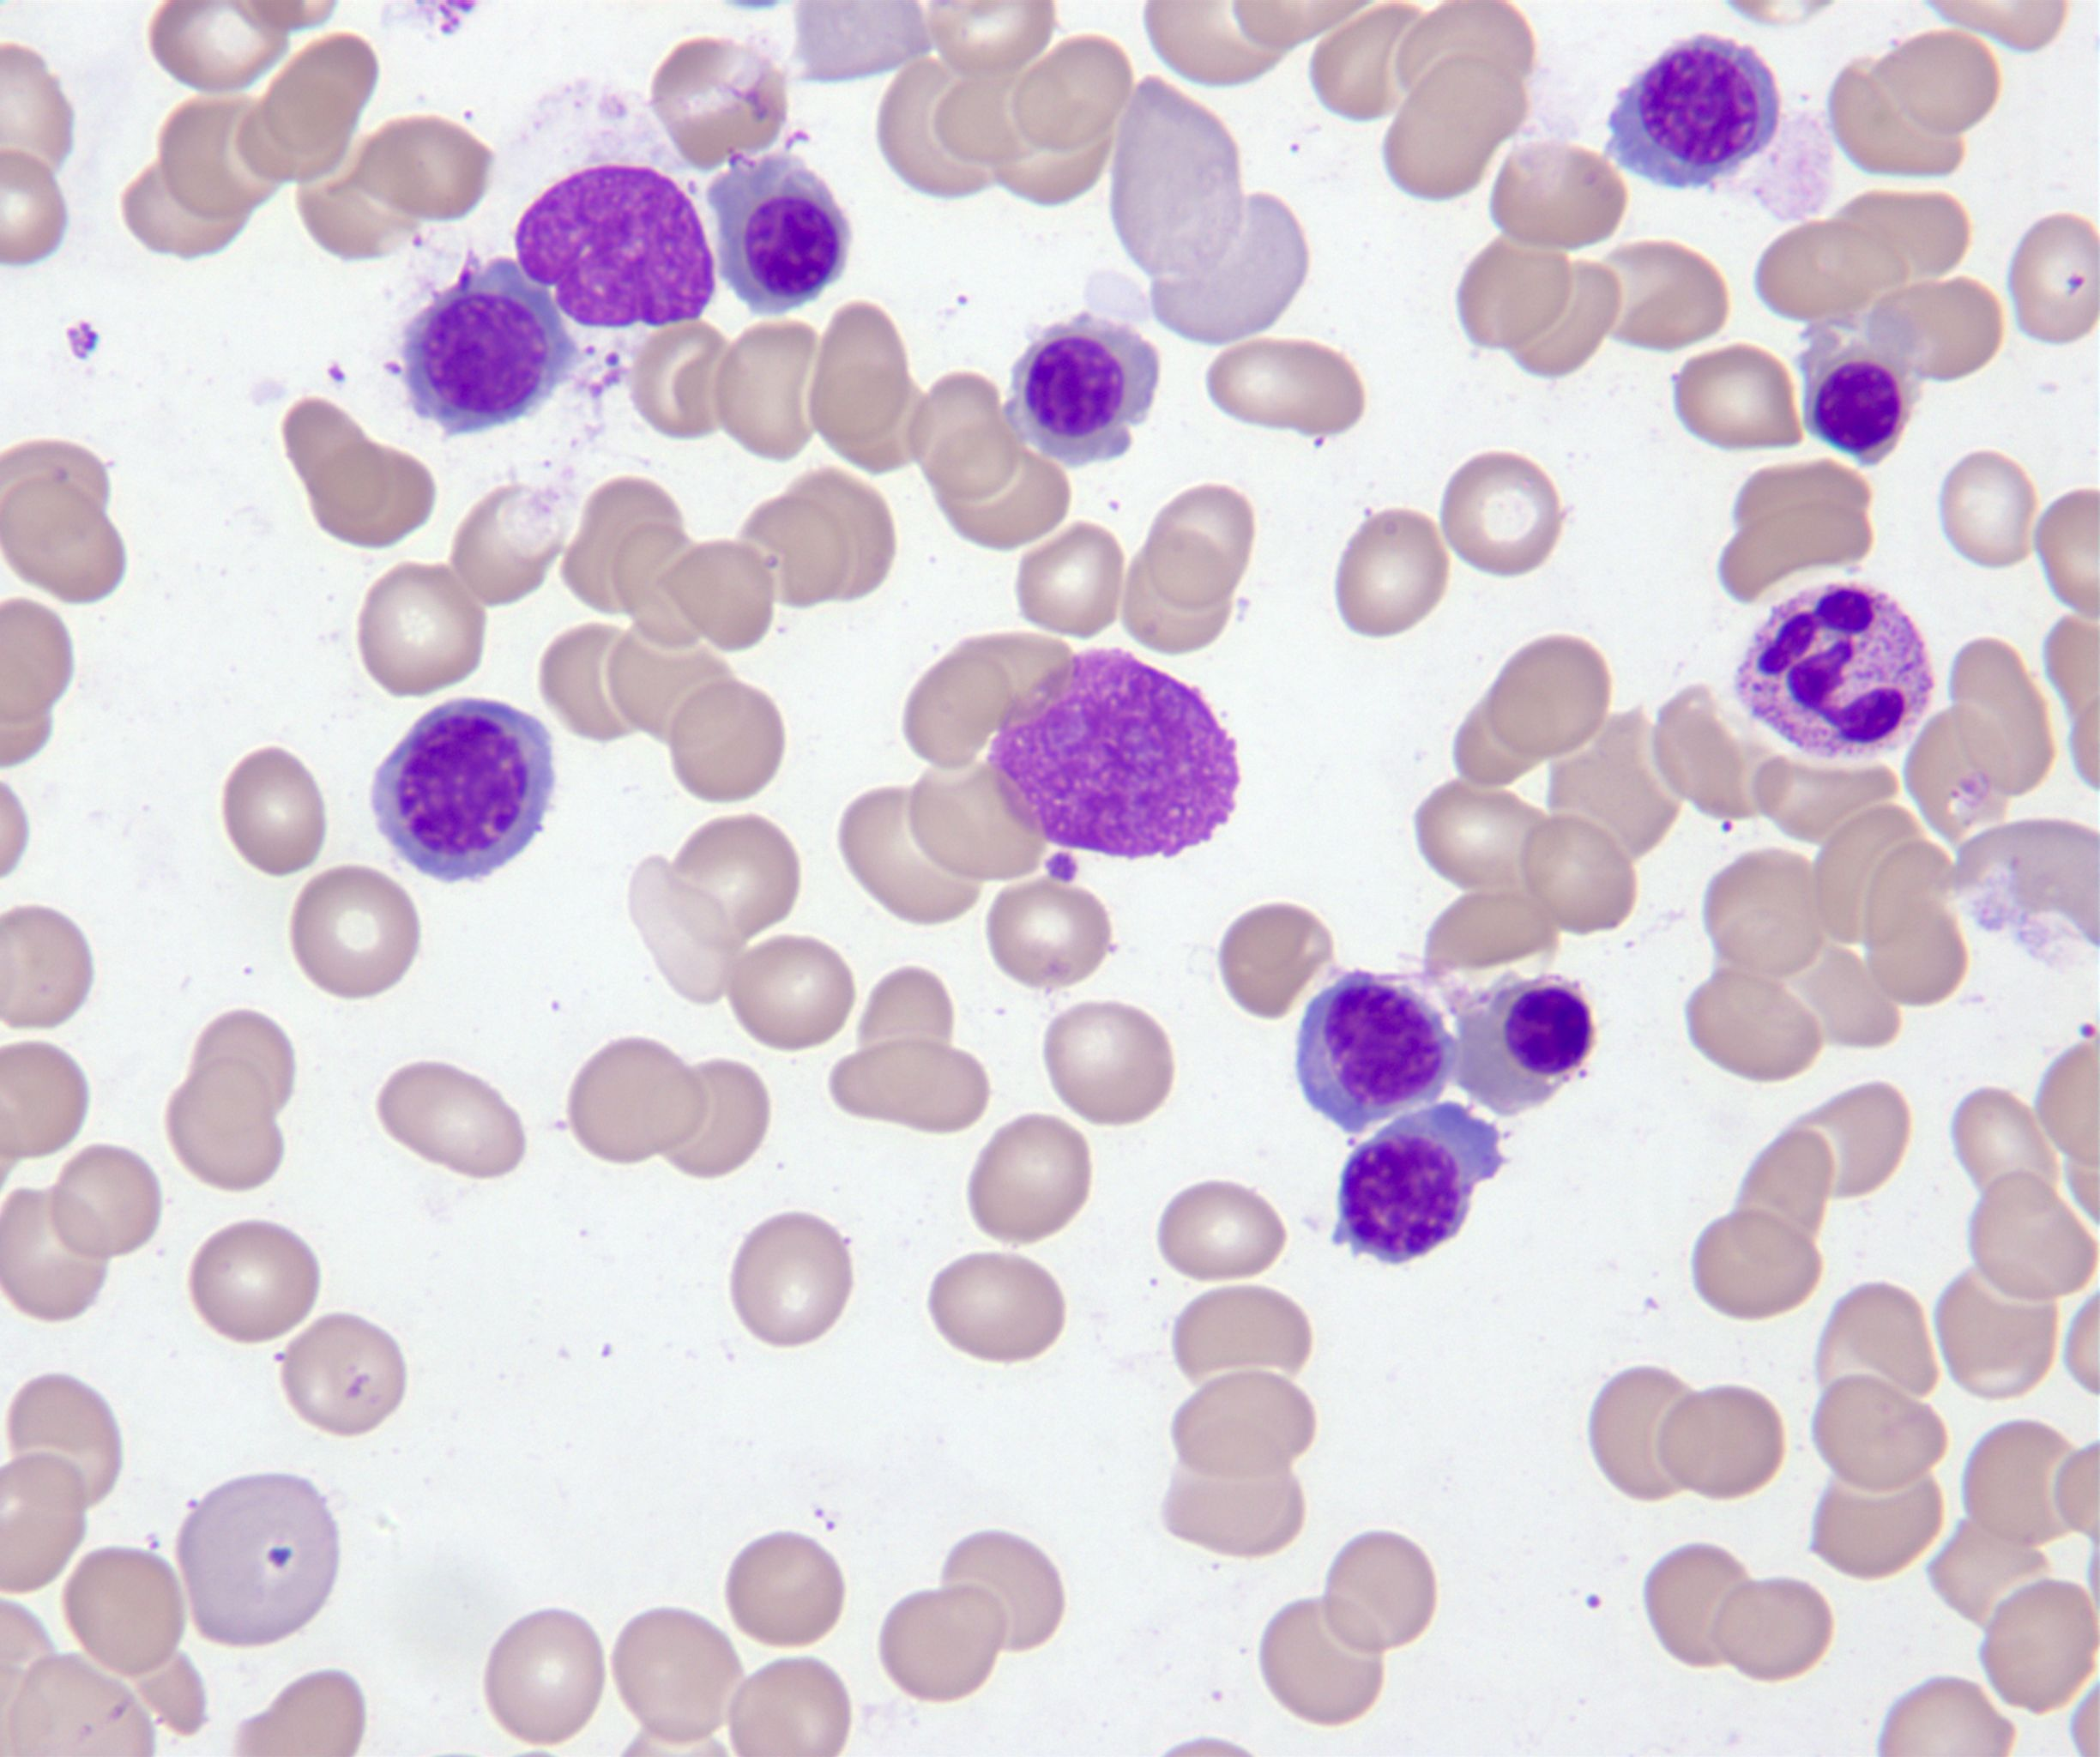23: (372, 698, 555, 881), (401, 258, 579, 438), (1333, 1104, 1505, 1263), (1296, 970, 1456, 1136), (1606, 35, 1779, 188), (1003, 312, 1158, 468), (708, 152, 849, 318)
24: (1455, 970, 1591, 1120), (1797, 307, 1922, 468)
6: (1737, 581, 1933, 757)
x: (989, 649, 1240, 860), (516, 167, 713, 328)
